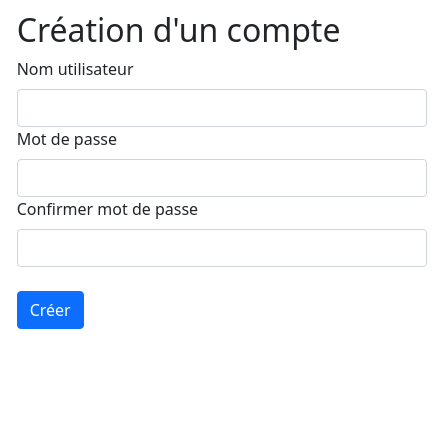
Création d'un compte client › Tous les champs du formulaire ont été entrées
Type "nomAjoute" into the field labelled "Nom utilisateur" at coordinates (222, 108), box [17,89,427,127]
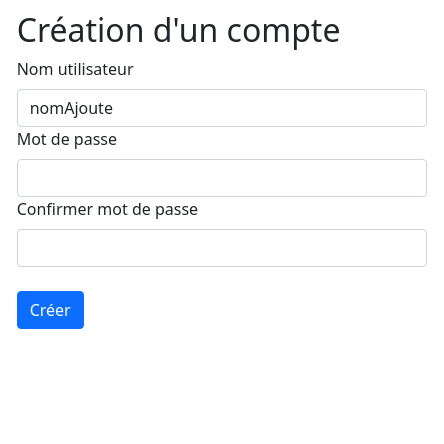
Type "motDePasseAjoute" into the password field labelled "Mot de passe" at coordinates (222, 178), box [17,159,427,197]
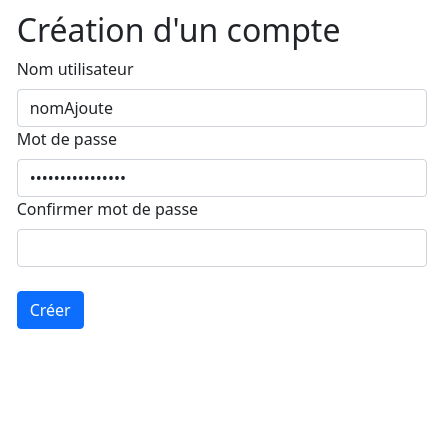
Type "motDePasseDifferent" into the password field labelled "Confirmer mot de passe" at coordinates (222, 248), box [17,229,427,267]
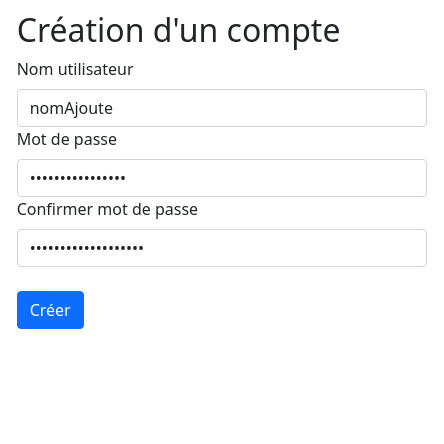
Click the button "Créer" at coordinates (50, 310), box [17,291,84,329]
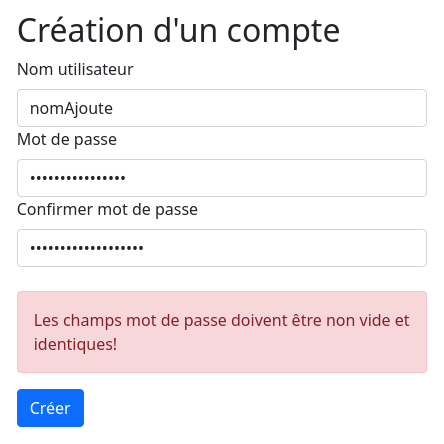
Check: the message reads "Les champs mot de passe doivent être non vide et identiques!", box [34,309,410,355]
